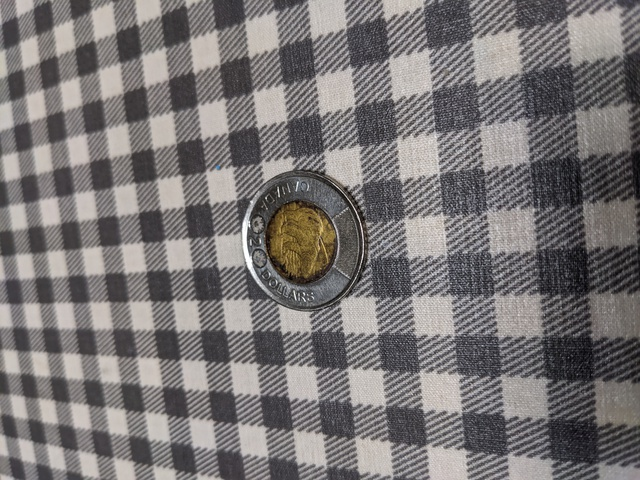twonie: (231, 165, 390, 310)
